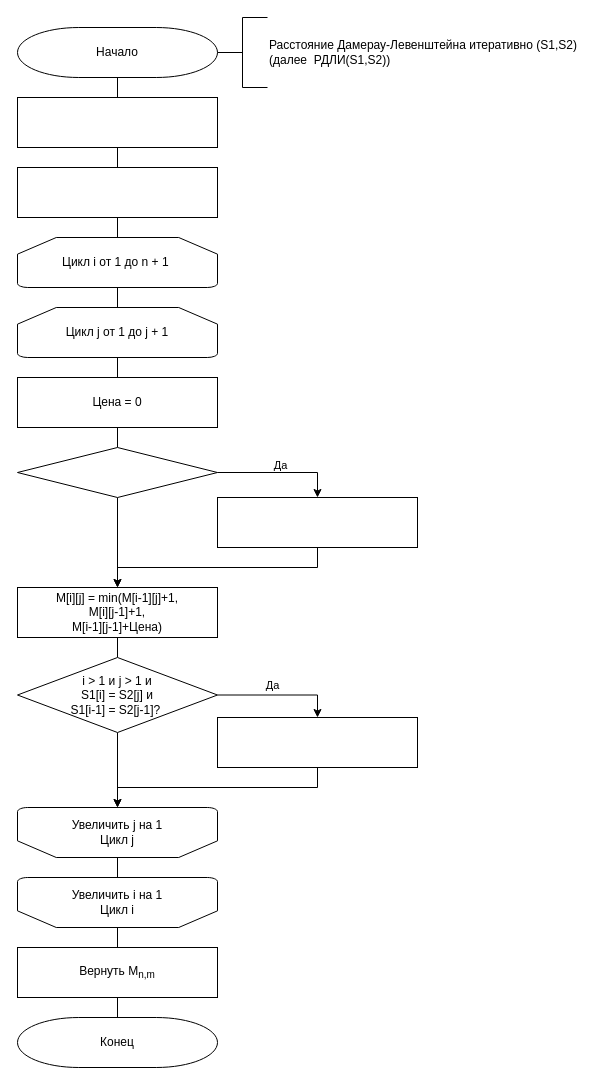
The diagram is 595 pixels wide and 1085 high, and some of its shapes have lost their labels. The shapes that lost their labels are listed below. From the top down, each one's box as (x1, y1, x2, y2) in pixels, then its label:
(16, 96, 218, 148): n = длина S1 m = длина S2
(16, 166, 218, 218): M = M n+1,m+1
(16, 446, 218, 498): S1[i]=S2[i]?
(216, 496, 418, 548): Цена = 1
(216, 716, 418, 768): M[i][j] = min(M[i][j], M[i-2][j-2])
